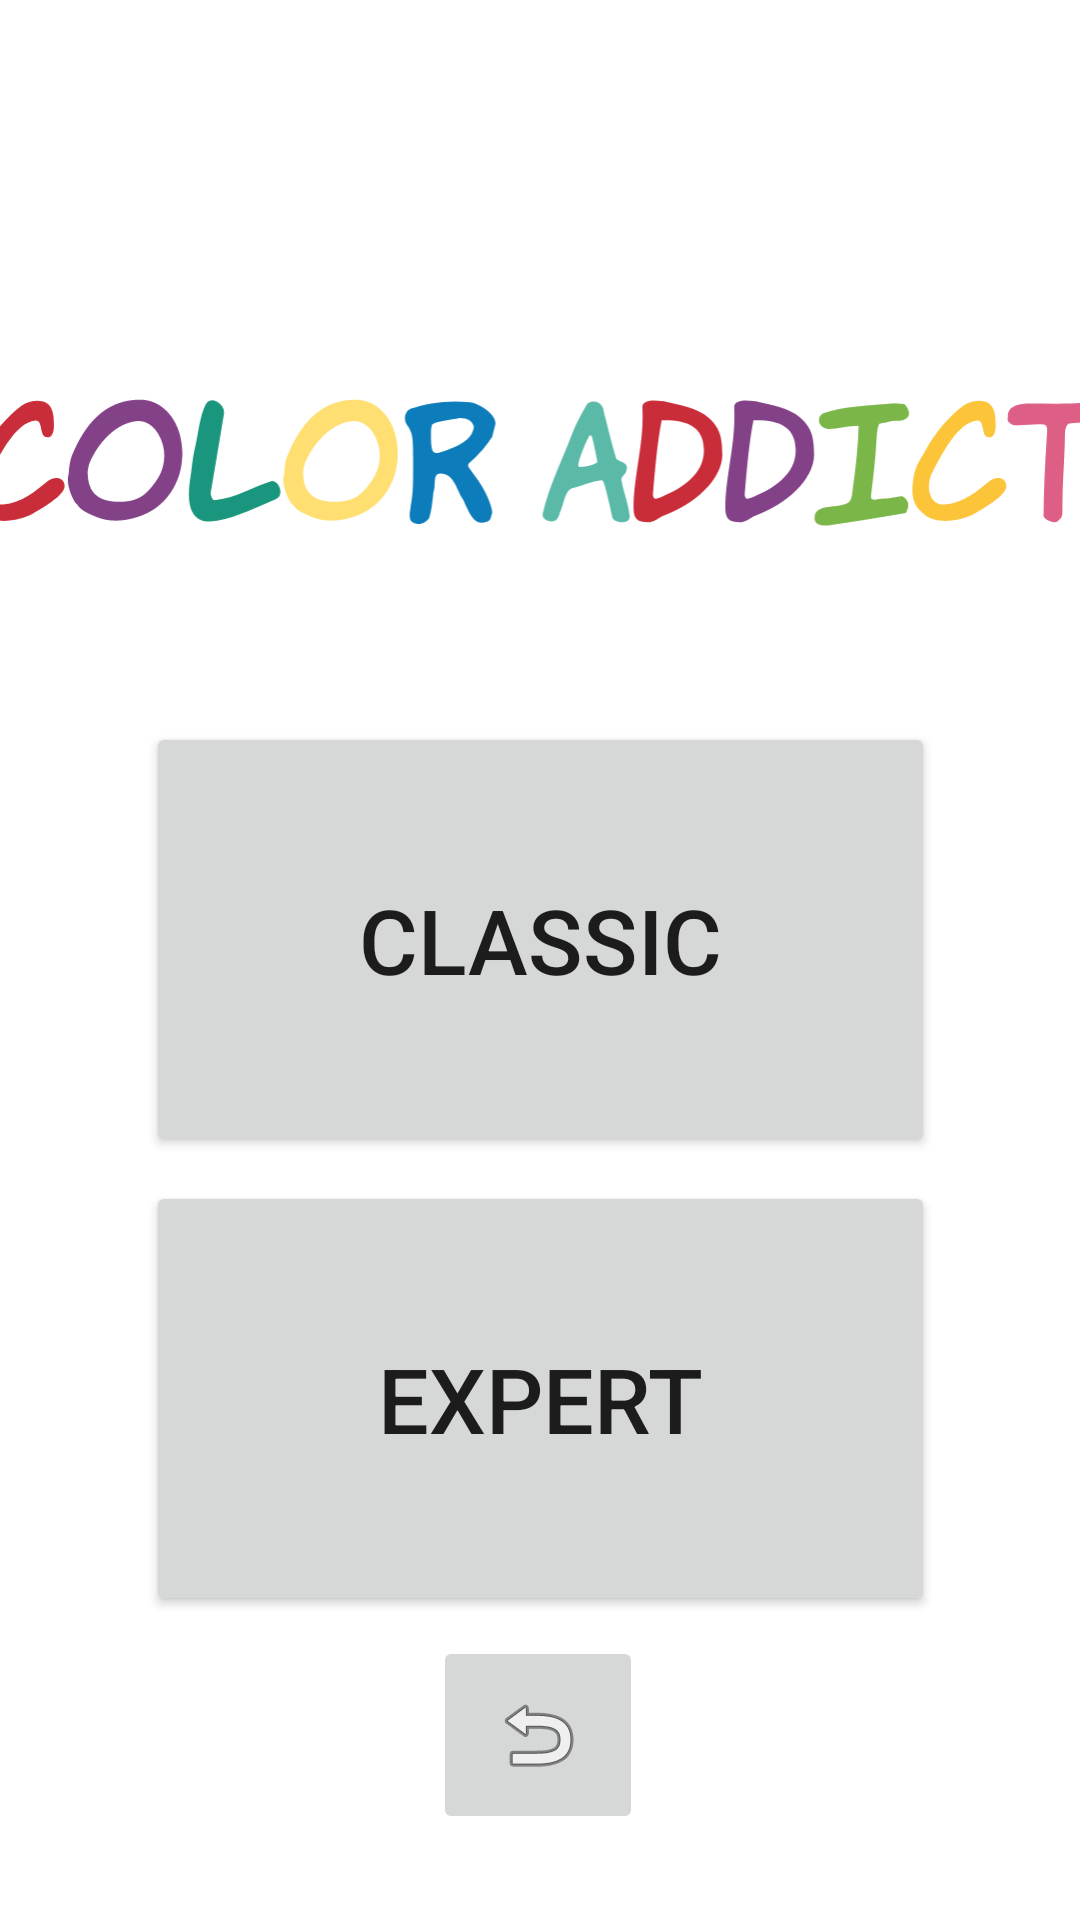

Icon bounding boxes for this 1080x1920 phone screenshot, format (x1, y1, x2, y2):
revert: (445, 1654, 631, 1816)
